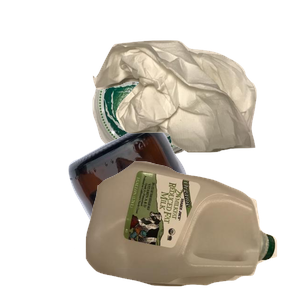glass: (66, 120, 300, 300)
metal: (90, 44, 289, 195)
plastic: (83, 159, 300, 300)
trash: (90, 38, 300, 183)
